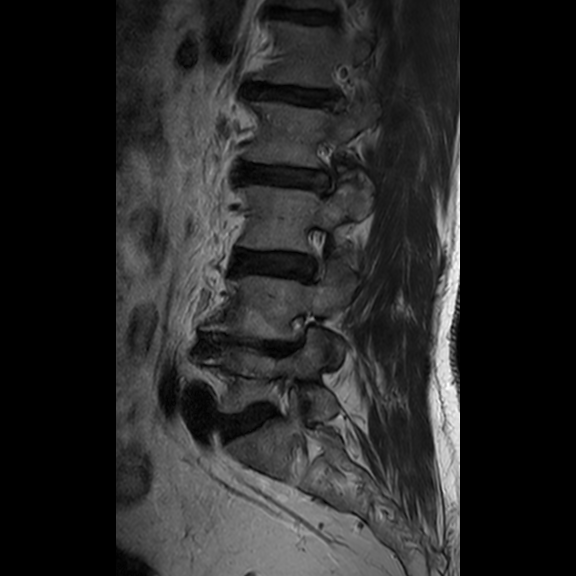LFS0: (293, 216, 340, 298)
